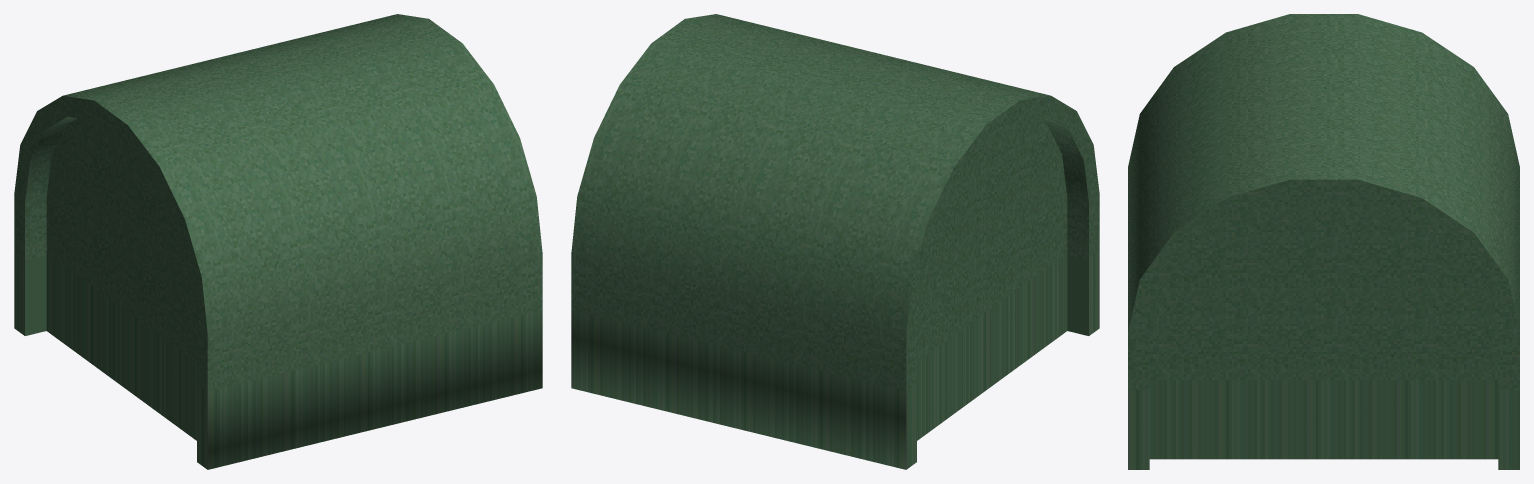
File: Silo.fbx
The picture shows the model from 3 angles, left to right: view 1: azimuth 30°, elevation 25°; view 2: azimuth 150°, elevation 25°; view 3: azimuth 270°, elevation 25°; orthographic projection.
Parts seen in each view (by area): view 1: Silo; view 2: Silo; view 3: Silo.
Boxes of the visible parts, <box> form: Silo: <box>14,14,542,469</box>; Silo: <box>571,14,1099,469</box>; Silo: <box>1128,14,1519,469</box>.
Bounding box in the file's own units: 6.32 × 6.32 × 5.17.
